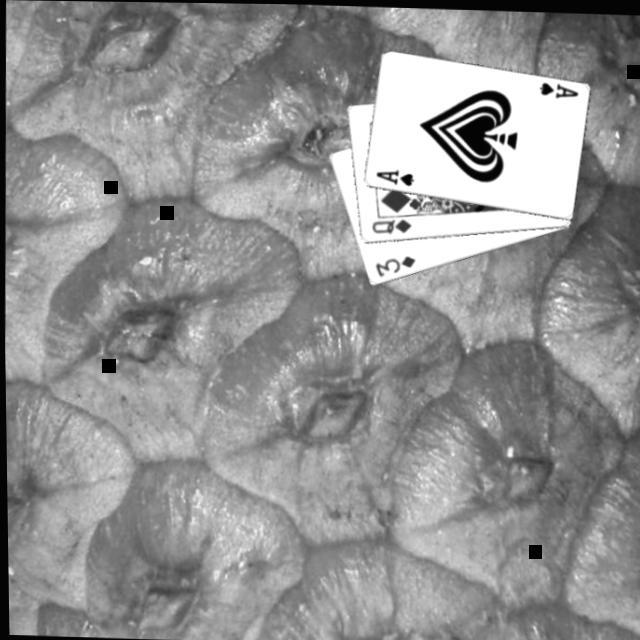3D: (372, 252, 418, 282)
AS: (536, 79, 581, 103), (373, 166, 417, 190)
QD: (368, 214, 414, 238)
